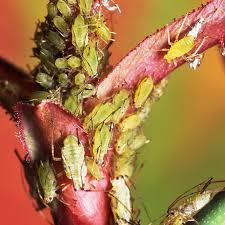Insects: (143, 170, 225, 225), (143, 11, 218, 69), (46, 115, 96, 191), (34, 150, 73, 211), (103, 173, 140, 225), (78, 43, 106, 86), (127, 73, 159, 110), (114, 123, 142, 154), (90, 19, 117, 47), (51, 12, 74, 41)
